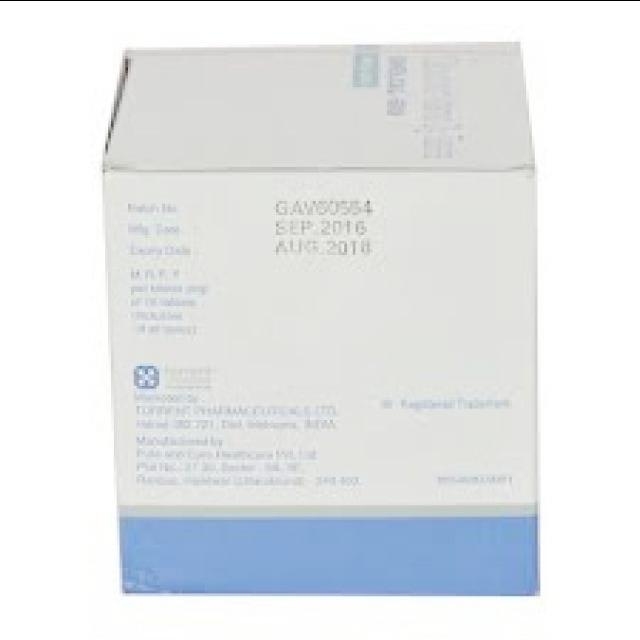authentic: (82, 30, 557, 620)
